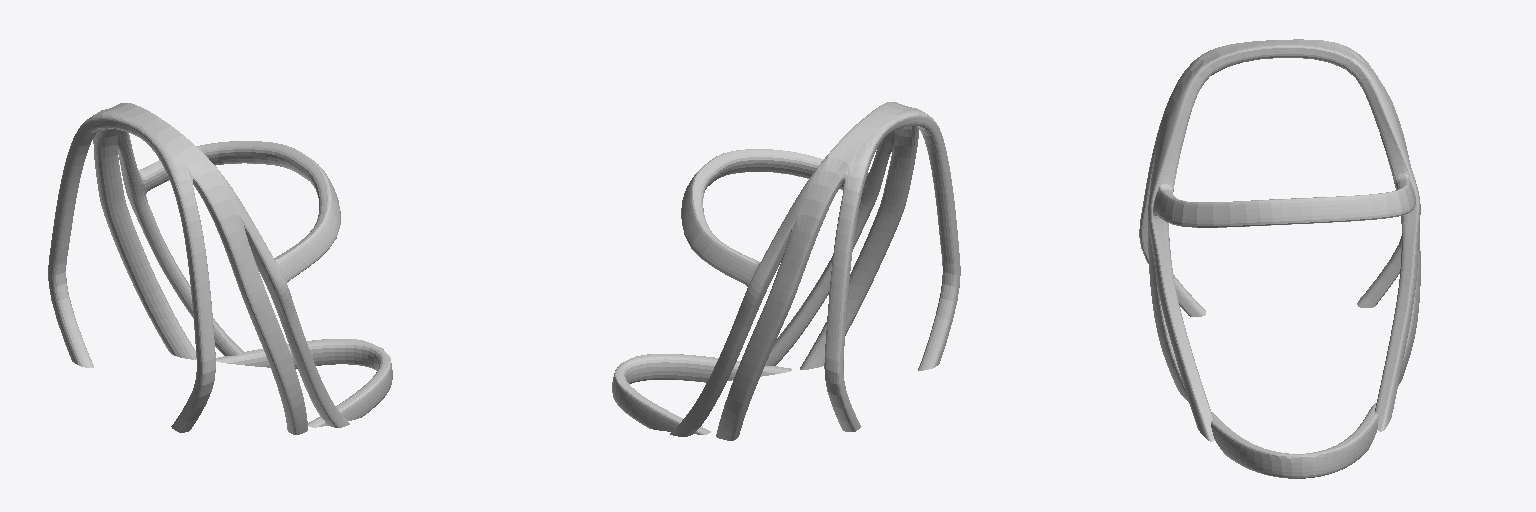
The model's file is cavalier_saddle_head_ropes.obj.
The picture shows the model from 3 angles: view 1: azimuth 30°, elevation 25°; view 2: azimuth 150°, elevation 25°; view 3: azimuth 270°, elevation 25°; orthographic projection.
Visible parts, largest first — view 1: 15548_French_Horseman_v1.001; view 2: 15548_French_Horseman_v1.001; view 3: 15548_French_Horseman_v1.001.
Boxes of the visible parts, x1,y1,x2,y2 form: 15548_French_Horseman_v1.001: [48, 103, 392, 434]; 15548_French_Horseman_v1.001: [612, 102, 960, 440]; 15548_French_Horseman_v1.001: [1139, 39, 1420, 478].
Size of the model in its own units: 1.68 by 1.86 by 1.46.